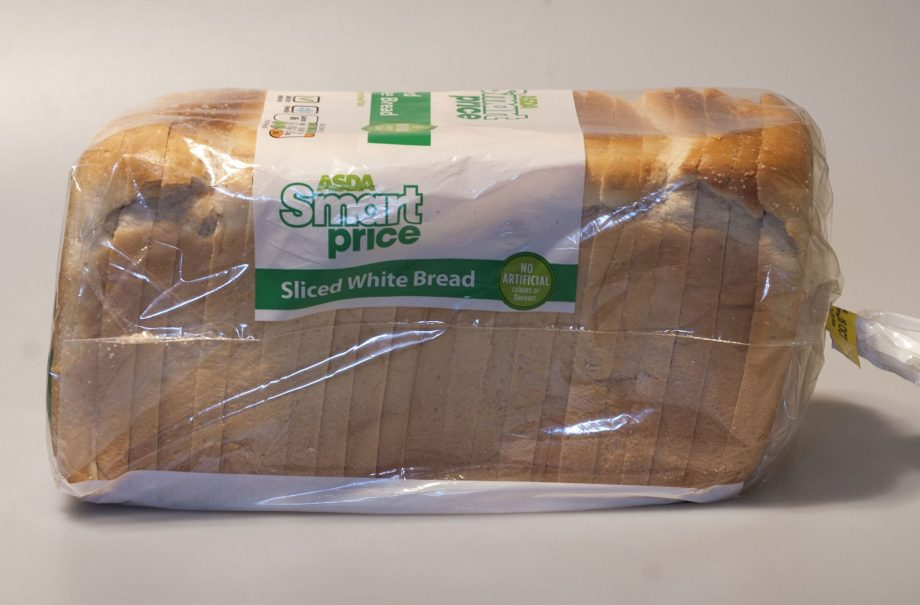slice of bread: (82, 110, 791, 491)
